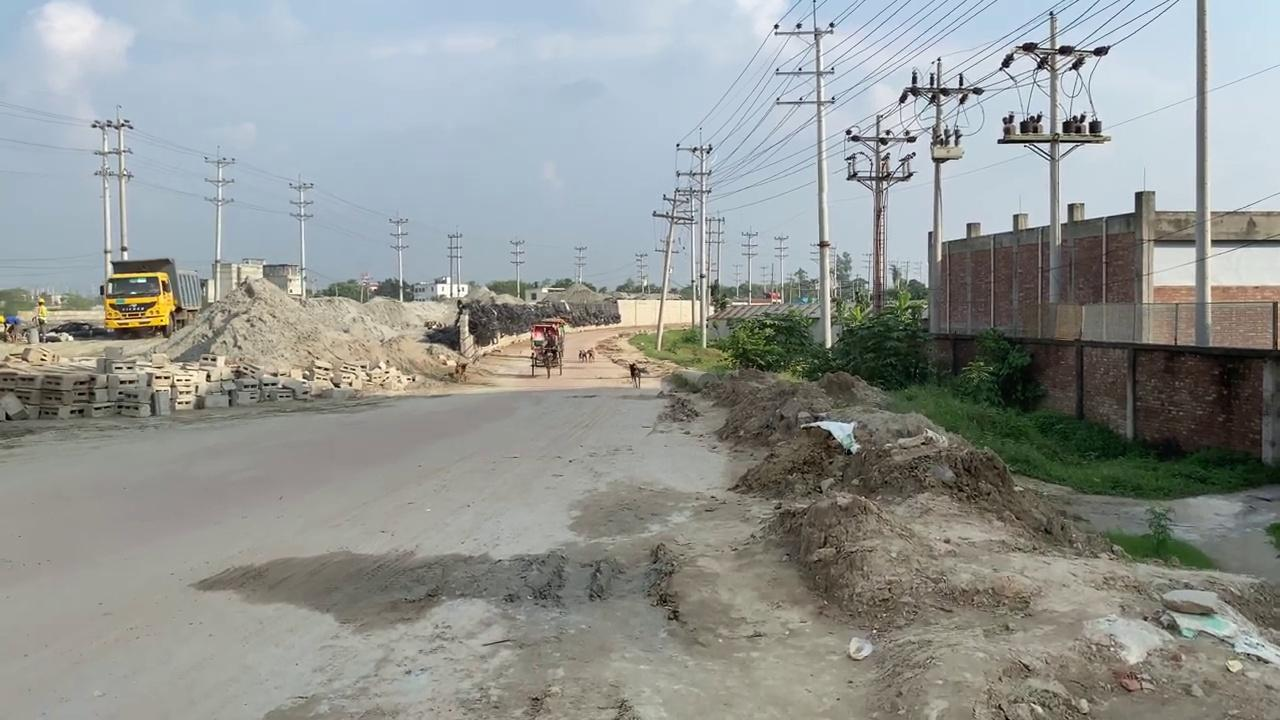Animal: (799, 418, 860, 454)
Dog: (453, 360, 468, 383), (577, 348, 584, 361)
Garbage: (0, 342, 416, 420)
Muddy road: (699, 324, 1277, 720)
Pole: (773, 1, 837, 350), (1193, 1, 1212, 345)
Railroad-crossing: (529, 318, 565, 378)
Tree: (99, 257, 201, 338), (359, 272, 379, 303)
